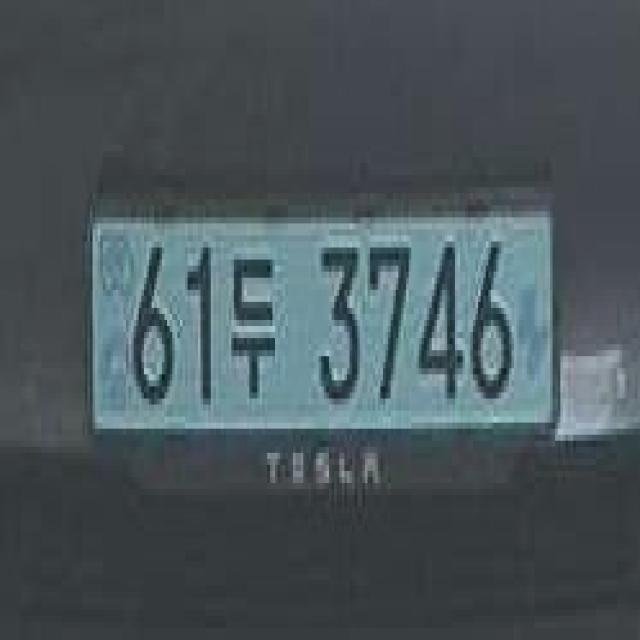EV_plate: (88, 178, 562, 516)
